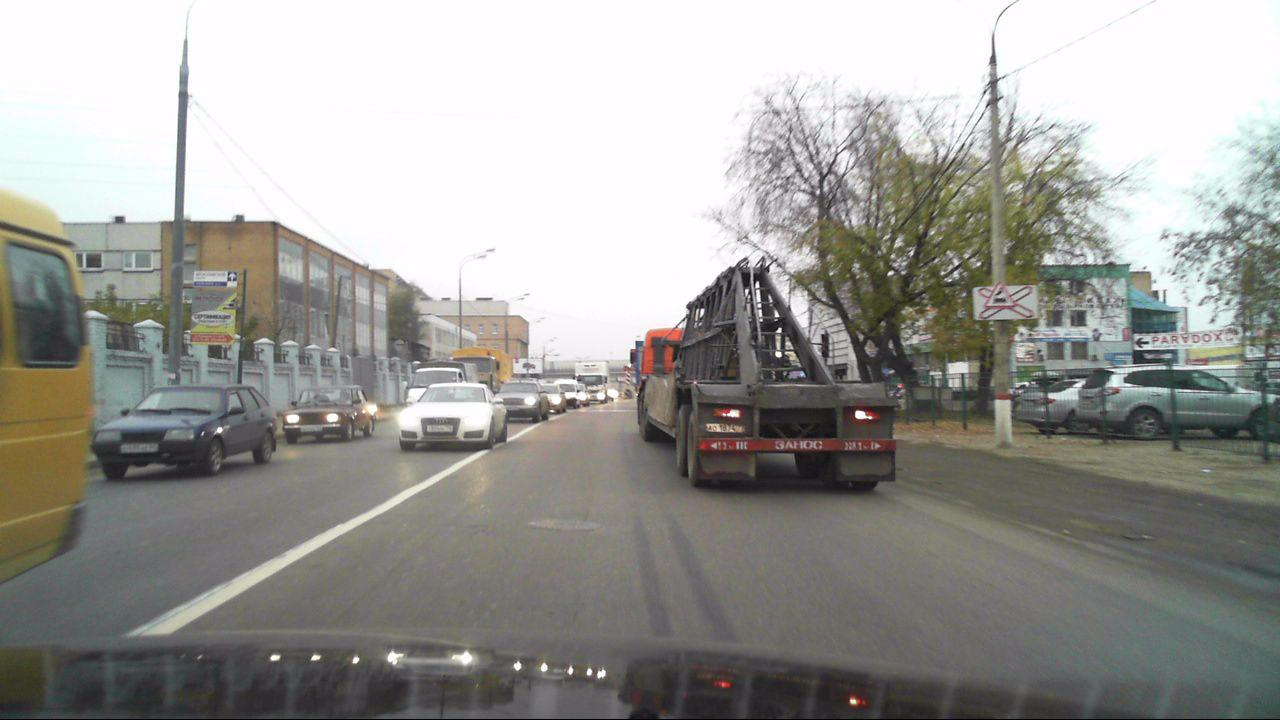1_2: (985, 281, 1014, 306)
1_3_1: (977, 286, 1035, 321)
